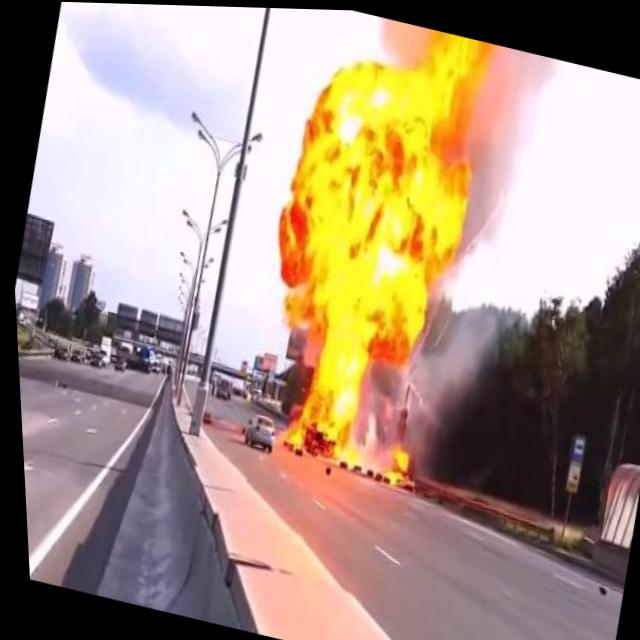fire: (217, 5, 519, 501)
